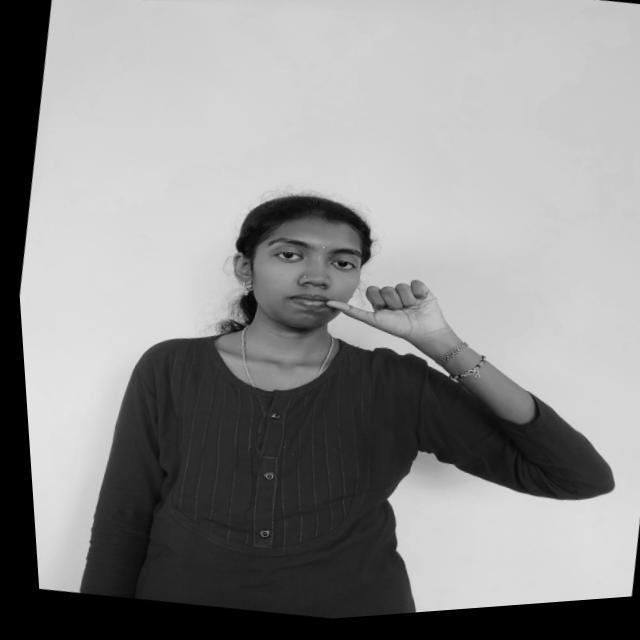Drink: (309, 261, 466, 365)
